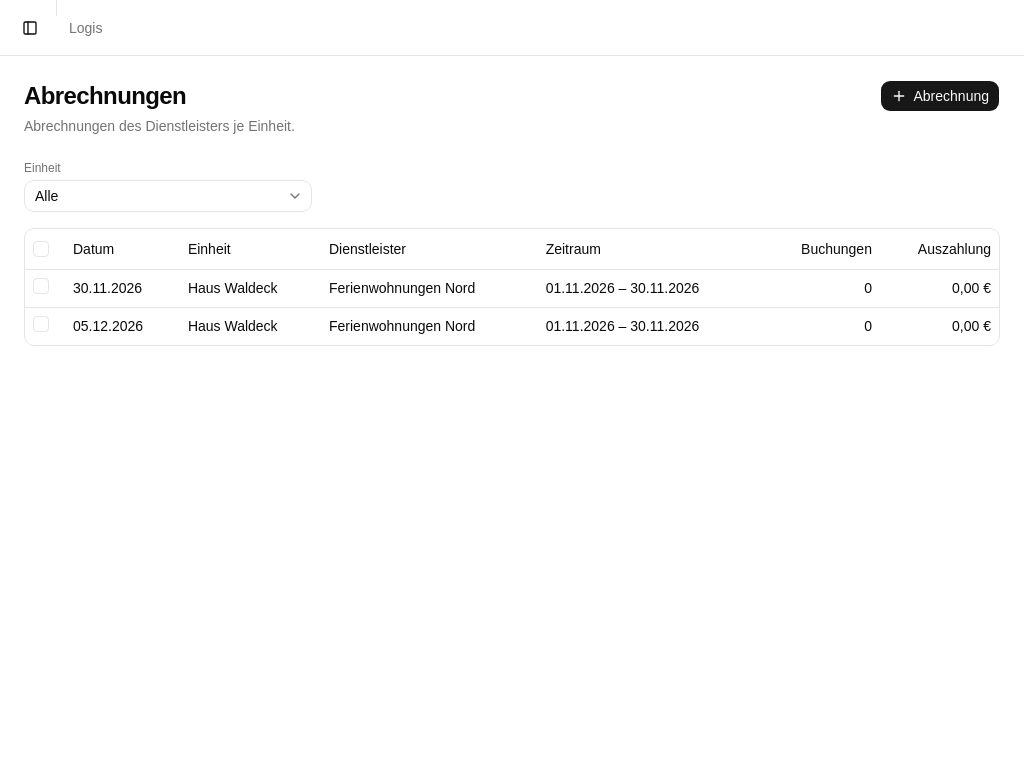
Test: Bulk actions on statements › deletes selected statements from the list
Click the checkbox named "Alle auf dieser Seite auswählen" at [41, 249], box [33,241,49,257]
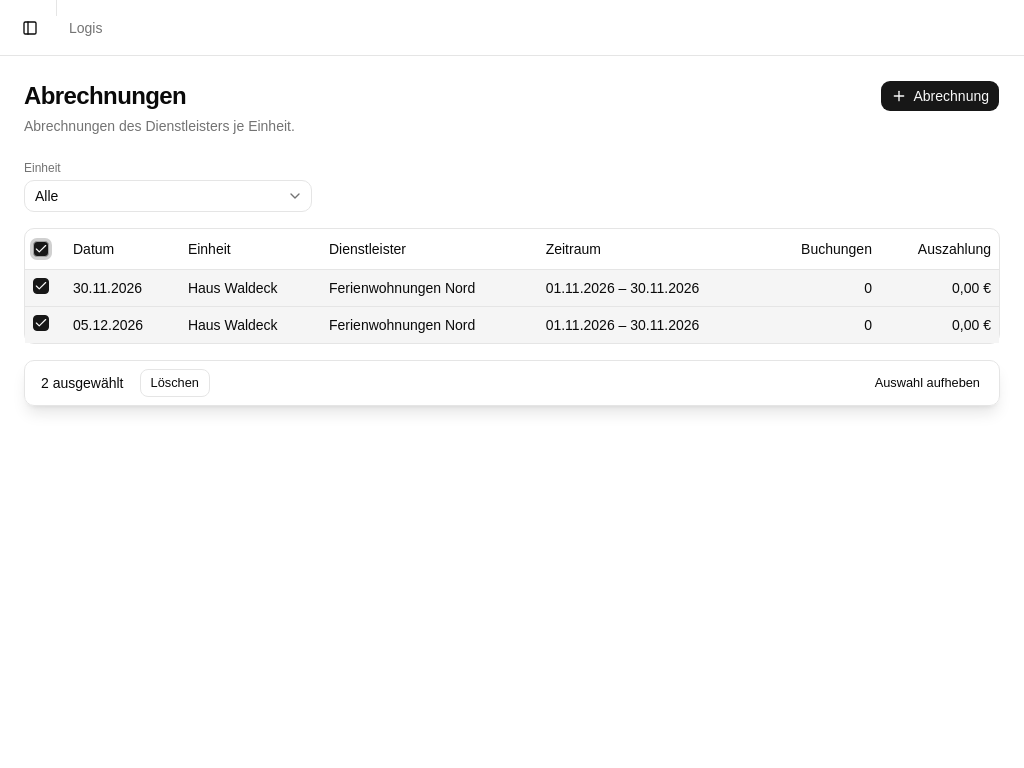
Click the button "Löschen" at [175, 382], box [140,368,210,396]
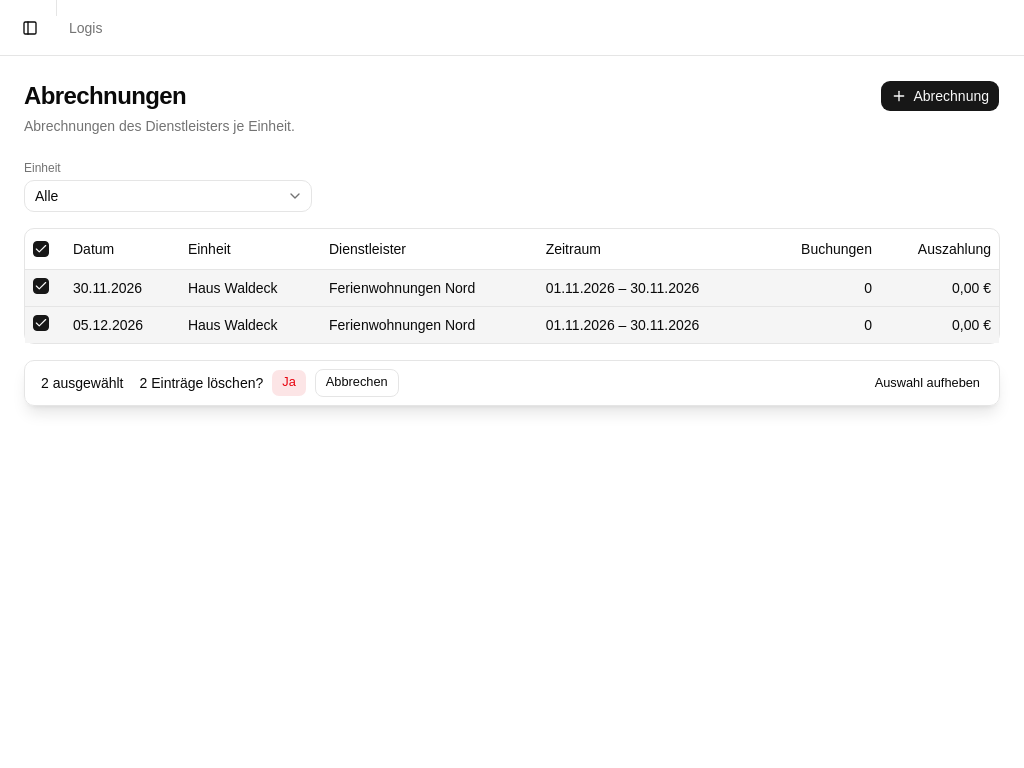
Click the button "Ja" at [289, 382], box [271,368,307,396]
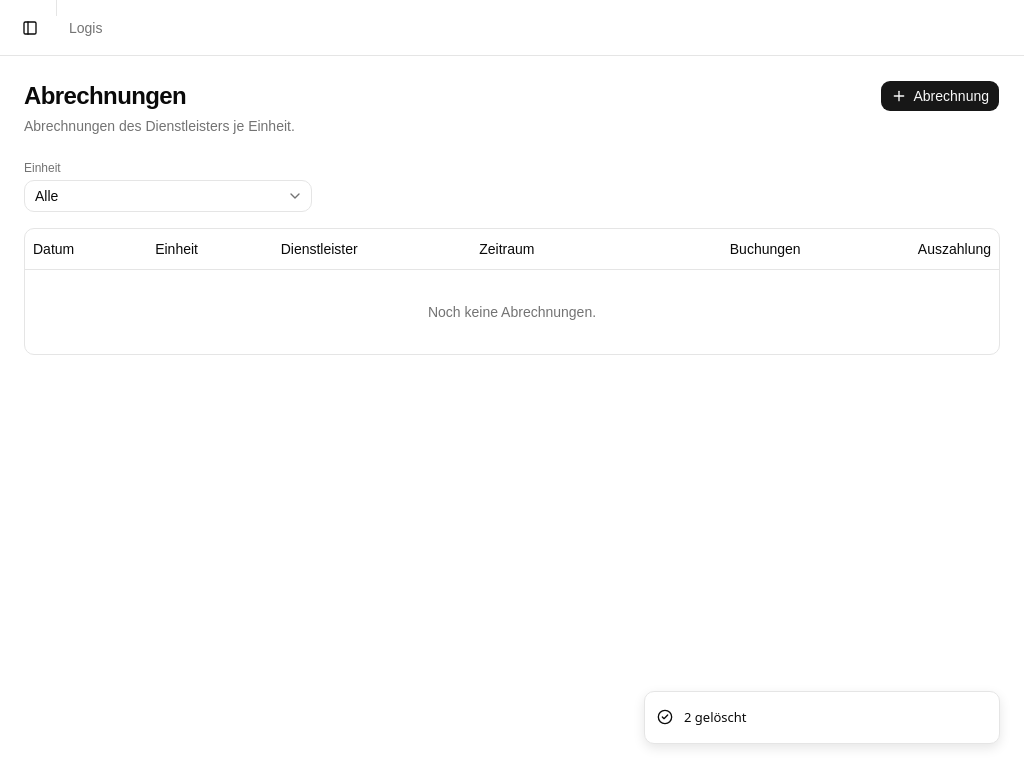
expect the text "2 gelöscht" is shown: met, box [684,708,747,727]
expect the text "Noch keine Abrechnungen." is shown: met, box [25,269,999,354]
